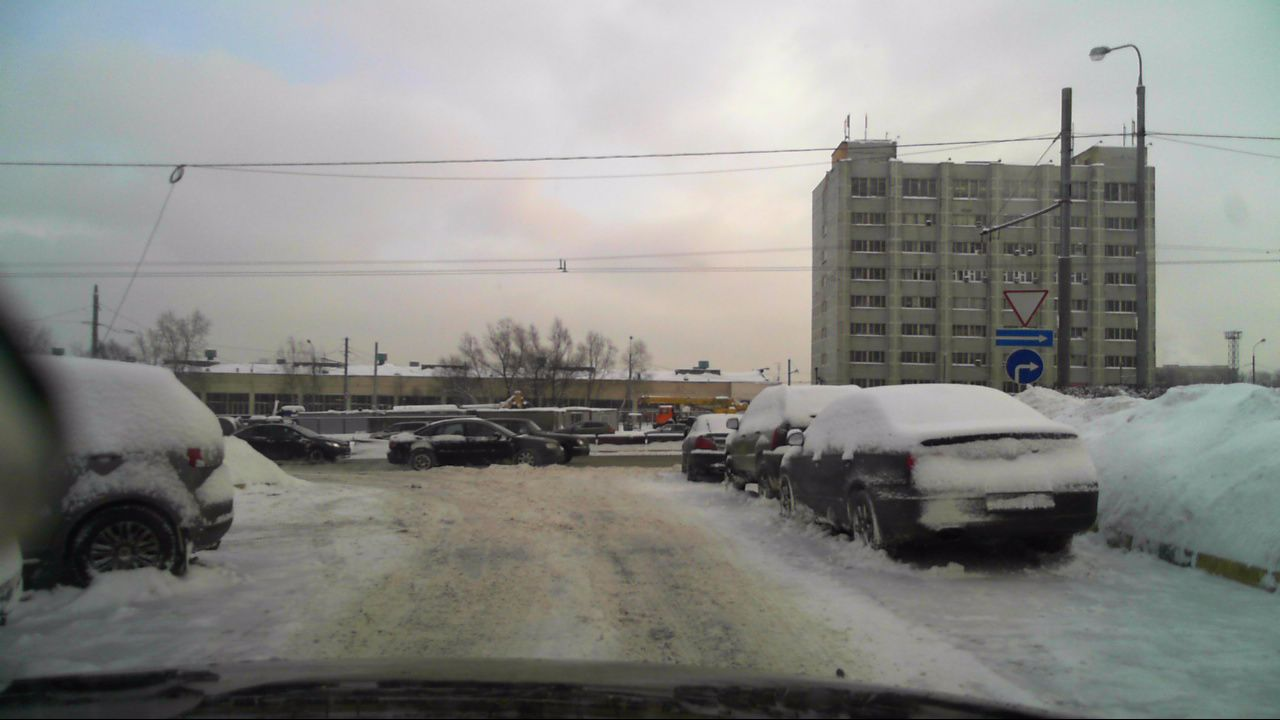One-Way Traffic: (995, 329, 1054, 348)
